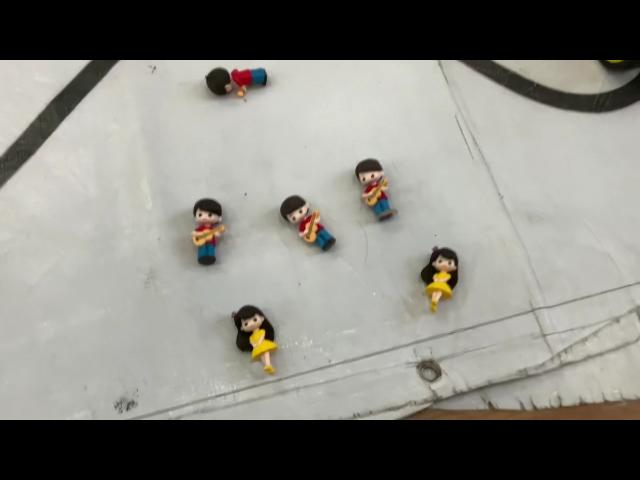man: (350, 152, 402, 226), (278, 192, 338, 253), (201, 61, 273, 103), (188, 196, 228, 268)
woman: (230, 302, 282, 380), (416, 241, 462, 316)
